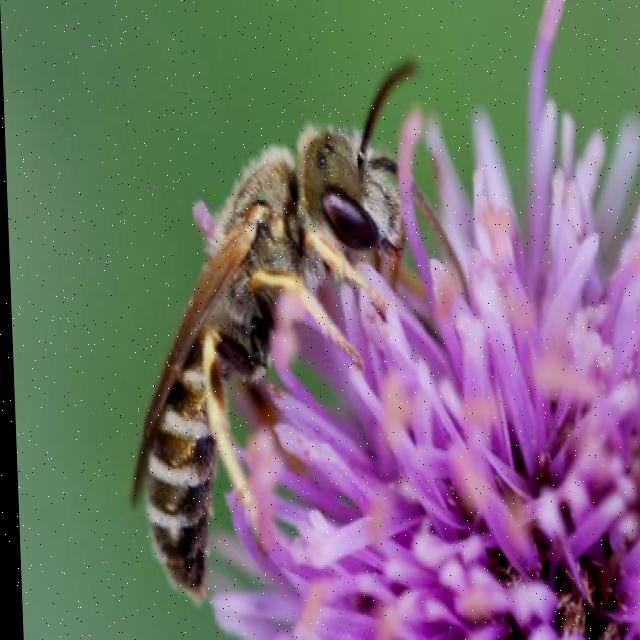Seladonia: (107, 48, 440, 602)
